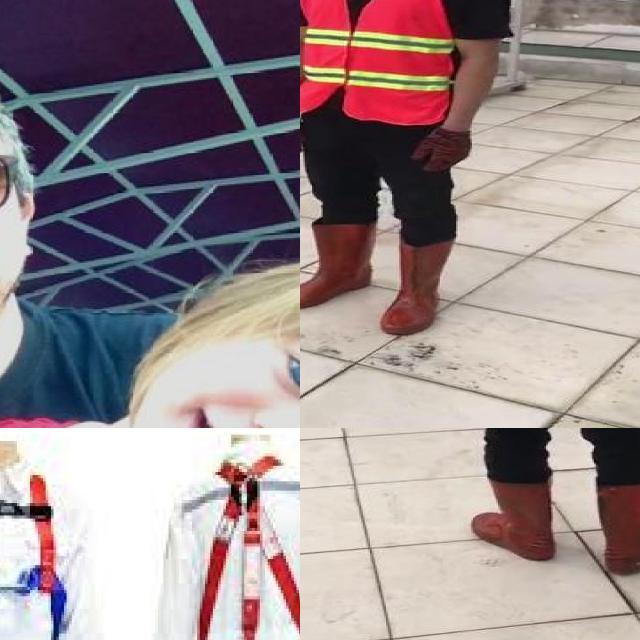Harness: (198, 454, 300, 640), (0, 474, 66, 640)
boots: (472, 476, 560, 562), (382, 239, 454, 335), (300, 223, 377, 308), (592, 479, 640, 575)
face_nomask: (153, 325, 300, 428)
hand_glove: (412, 128, 474, 173)
person: (300, 0, 515, 335), (392, 428, 640, 580)
vest: (300, 0, 461, 121)
